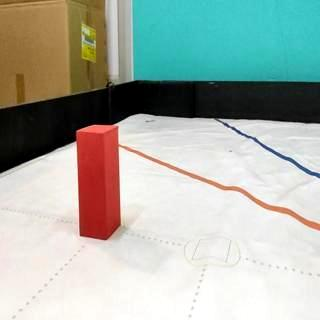redbox: (74, 123, 120, 240)
